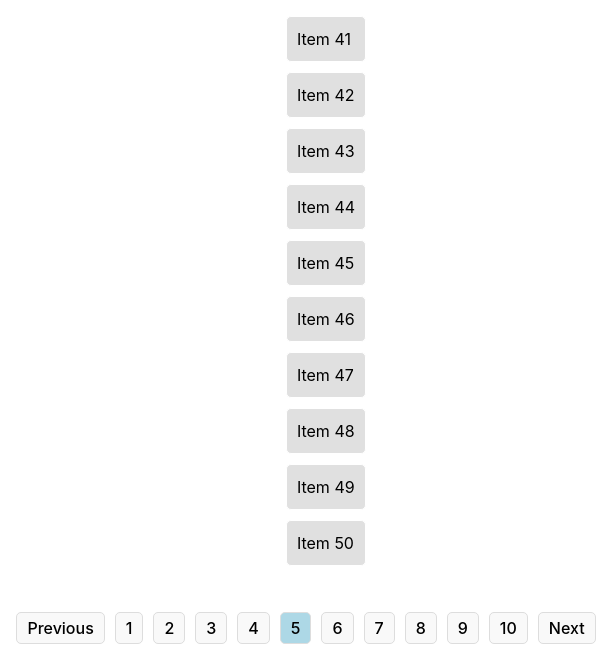
Test: pagination page › Navigation, works
The image size is (613, 661).
expect the list item "Item 41" is shown: met, box x1=286 y1=16 x2=366 y2=62
expect the list item "Item 50" is shown: met, box x1=286 y1=520 x2=366 y2=566
Click the button with test id "next" at [567, 628], box x1=538 y1=612 x2=596 y2=644
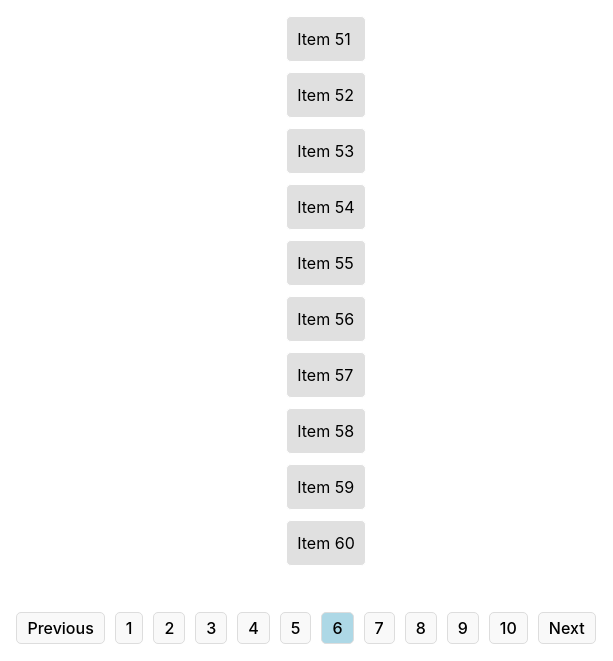
expect the list item "Item 41" is gone: met
expect the list item "Item 50" is gone: met
expect the list item "Item 51" is shown: met, box x1=286 y1=16 x2=366 y2=62
Click the button with test id "previous" at [61, 628], box x1=16 y1=612 x2=105 y2=644
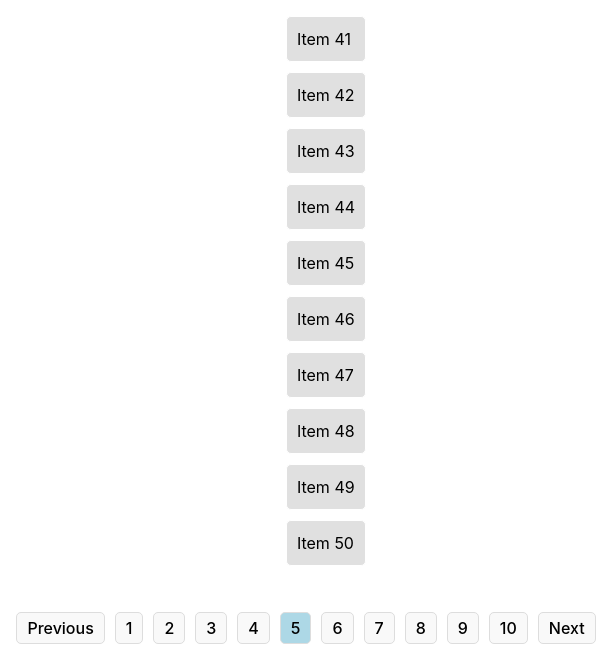
expect the list item "Item 51" is gone: met
expect the list item "Item 41" is shown: met, box x1=286 y1=16 x2=366 y2=62
expect the list item "Item 50" is shown: met, box x1=286 y1=520 x2=366 y2=566
